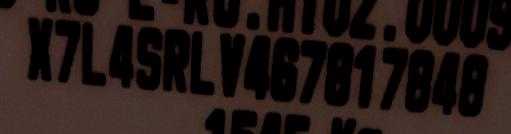letter: (458, 51, 489, 115), (378, 46, 408, 110), (405, 47, 435, 111), (22, 16, 52, 78), (189, 30, 217, 94), (270, 35, 298, 99), (298, 38, 326, 102), (324, 40, 352, 104), (243, 34, 272, 95), (162, 28, 189, 90), (216, 32, 243, 94), (82, 21, 108, 85), (135, 28, 162, 89), (433, 49, 458, 114), (109, 24, 135, 86), (352, 44, 377, 106), (54, 19, 78, 81)
